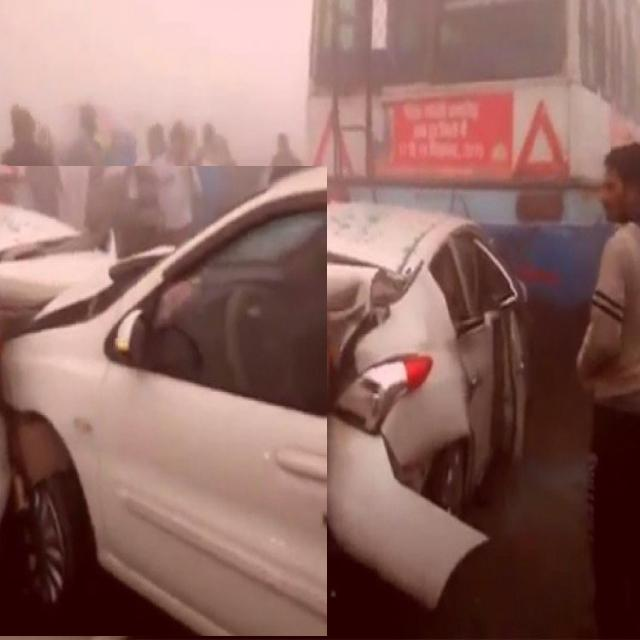accident: (0, 167, 327, 636), (215, 204, 526, 607)
bus: (301, 0, 640, 305)
